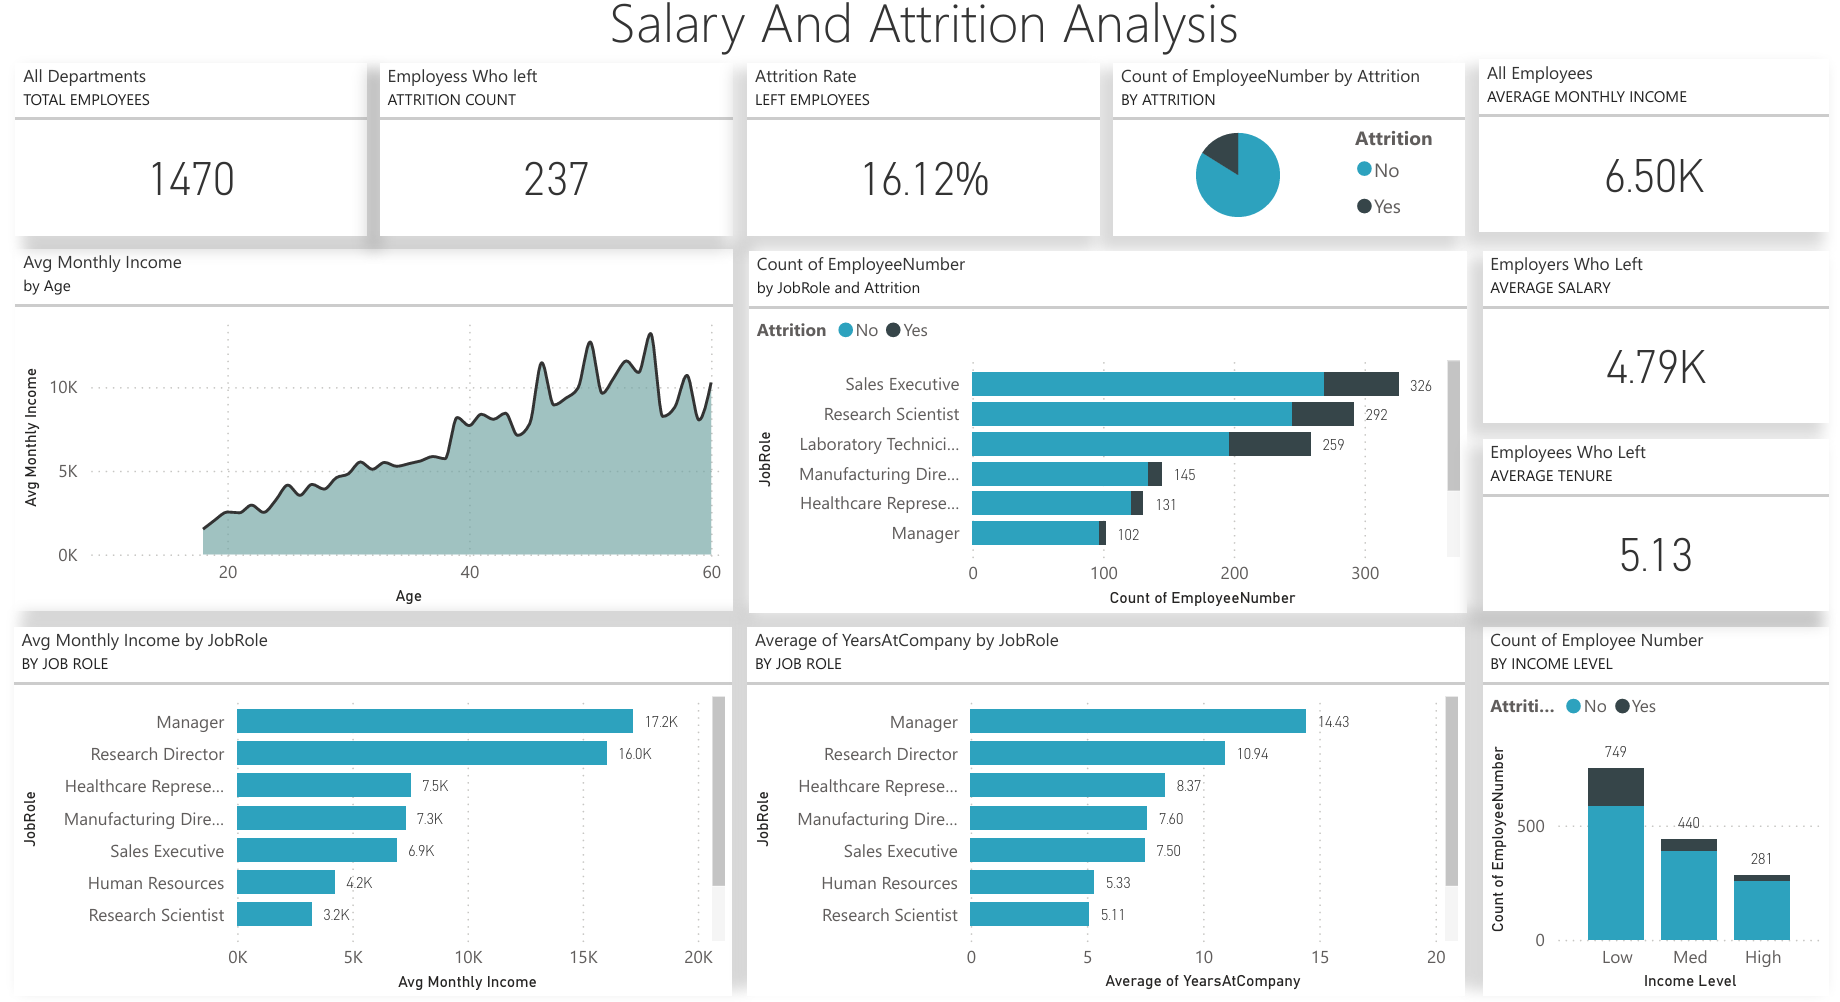

The dashboard page shown, as its layout file describes it:
{"tool":"powerbi","page":{"name":"Salary And Attrition Analysis","canvas":[1280,720],"ordinal":0},"visuals":[{"type":"textbox","box":[385.5,0,510.6,62],"z":0},{"type":"card","title":"All Employees","fields":{"Values":["WA_Fn-UseC_-HR-Employee-Attrition.Avg Monthly Income"]},"box":[1026.7,57.5,242.8,120],"z":1000},{"type":"card","title":"Employers Who Left","fields":{"Values":["WA_Fn-UseC_-HR-Employee-Attrition.Avg Income Attrition"]},"box":[1029.1,190.1,240.1,119.4],"z":2000},{"type":"pieChart","fields":{"Category":["WA_Fn-UseC_-HR-Employee-Attrition.Attrition"],"Y":["CountNonNull(WA_Fn-UseC_-HR-Employee-Attrition.EmployeeNumber)"]},"box":[773.5,59.2,243.5,119.8],"z":3000},{"type":"areaChart","fields":{"Category":["WA_Fn-UseC_-HR-Employee-Attrition.Age"],"Y":["HR.Avg Monthly Income"]},"box":[10.3,189.3,497.8,251],"z":4000},{"type":"columnChart","title":"Count of Employee Number","fields":{"Category":["WA_Fn-UseC_-HR-Employee-Attrition.Income Level"],"Series":["HR.Attrition"],"Y":["CountNonNull(WA_Fn-UseC_-HR-Employee-Attrition.EmployeeNumber)"]},"box":[1029.1,451.3,240.1,256.3],"z":5000},{"type":"card","title":"All Departments","fields":{"Values":["CountNonNull(WA_Fn-UseC_-HR-Employee-Attrition.EmployeeNumber)"]},"box":[10.9,59.2,243.5,119.8],"z":6000},{"type":"card","title":"Employess Who left","fields":{"Values":["CountNonNull(WA_Fn-UseC_-HR-Employee-Attrition.EmployeeNumber)"]},"box":[263.8,59.2,244.9,119.8],"z":7000},{"type":"card","title":"Attrition Rate","fields":{"Values":["WA_Fn-UseC_-HR-Employee-Attrition.Attrition Rate"]},"box":[519.3,59.2,244.9,119.8],"z":8000},{"type":"barChart","fields":{"Category":["WA_Fn-UseC_-HR-Employee-Attrition.JobRole"],"Y":["HR.Avg Monthly Income"]},"box":[9.7,451.3,497.7,256.3],"z":9000},{"type":"barChart","fields":{"Category":["WA_Fn-UseC_-HR-Employee-Attrition.JobRole"],"Y":["Avg(HR.YearsAtCompany)"]},"box":[519.1,451.3,497.6,256.3],"z":10000},{"type":"barChart","fields":{"Category":["HR.JobRole"],"Series":["HR.Attrition"],"Y":["CountNonNull(HR.EmployeeNumber)"]},"box":[519.5,189.7,497.7,250.9],"z":11000},{"type":"card","title":"Employees Who Left","fields":{"Values":["WA_Fn-UseC_-HR-Employee-Attrition.Avg Tenure Attrition"]},"box":[1029.1,320.7,240.1,119.4],"z":12000}]}

Visuals, with their boxes on the page's 1280x720 design canvas (x1, y1, x2, y2). These are canvas units, not pixel positions in the 1840x1002 screenshot, which may show the page scaled, cropped or inside an application window:
textbox: <bbox>386, 0, 896, 62</bbox>
"All Employees" card: <bbox>1027, 58, 1270, 178</bbox>
"Employers Who Left" card: <bbox>1029, 190, 1269, 310</bbox>
pieChart - WA_Fn-UseC_-HR-Employee-Attrition.Attrition x CountNonNull(WA_Fn-UseC_-HR-Employee-Attrition.EmployeeNumber): <bbox>774, 59, 1017, 179</bbox>
areaChart - WA_Fn-UseC_-HR-Employee-Attrition.Age x HR.Avg Monthly Income: <bbox>10, 189, 508, 440</bbox>
"Count of Employee Number" columnChart: <bbox>1029, 451, 1269, 708</bbox>
"All Departments" card: <bbox>11, 59, 254, 179</bbox>
"Employess Who left" card: <bbox>264, 59, 509, 179</bbox>
"Attrition Rate" card: <bbox>519, 59, 764, 179</bbox>
barChart - WA_Fn-UseC_-HR-Employee-Attrition.JobRole x HR.Avg Monthly Income: <bbox>10, 451, 507, 708</bbox>
barChart - WA_Fn-UseC_-HR-Employee-Attrition.JobRole x Avg(HR.YearsAtCompany): <bbox>519, 451, 1017, 708</bbox>
barChart - HR.JobRole x HR.Attrition: <bbox>520, 190, 1017, 441</bbox>
"Employees Who Left" card: <bbox>1029, 321, 1269, 440</bbox>
